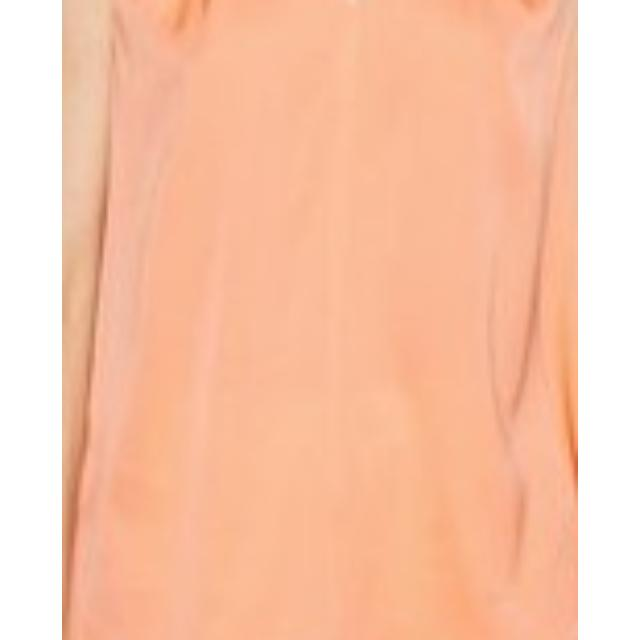silk: (82, 0, 578, 640)
